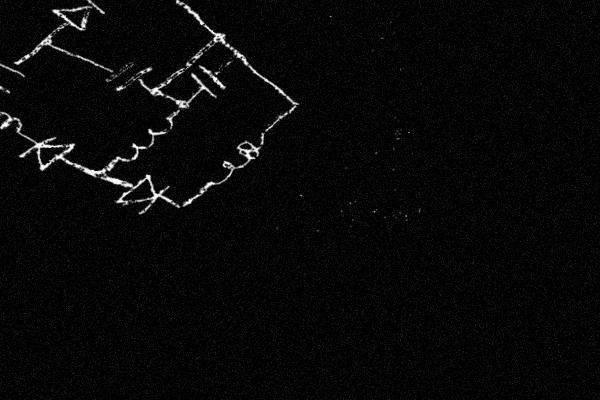capacitor: (98, 56, 158, 96), (187, 59, 234, 106), (0, 49, 34, 101)
diode: (108, 167, 177, 222), (12, 128, 81, 176), (46, 0, 111, 38)
inductor: (197, 122, 277, 194), (104, 110, 183, 169), (0, 98, 28, 144)
